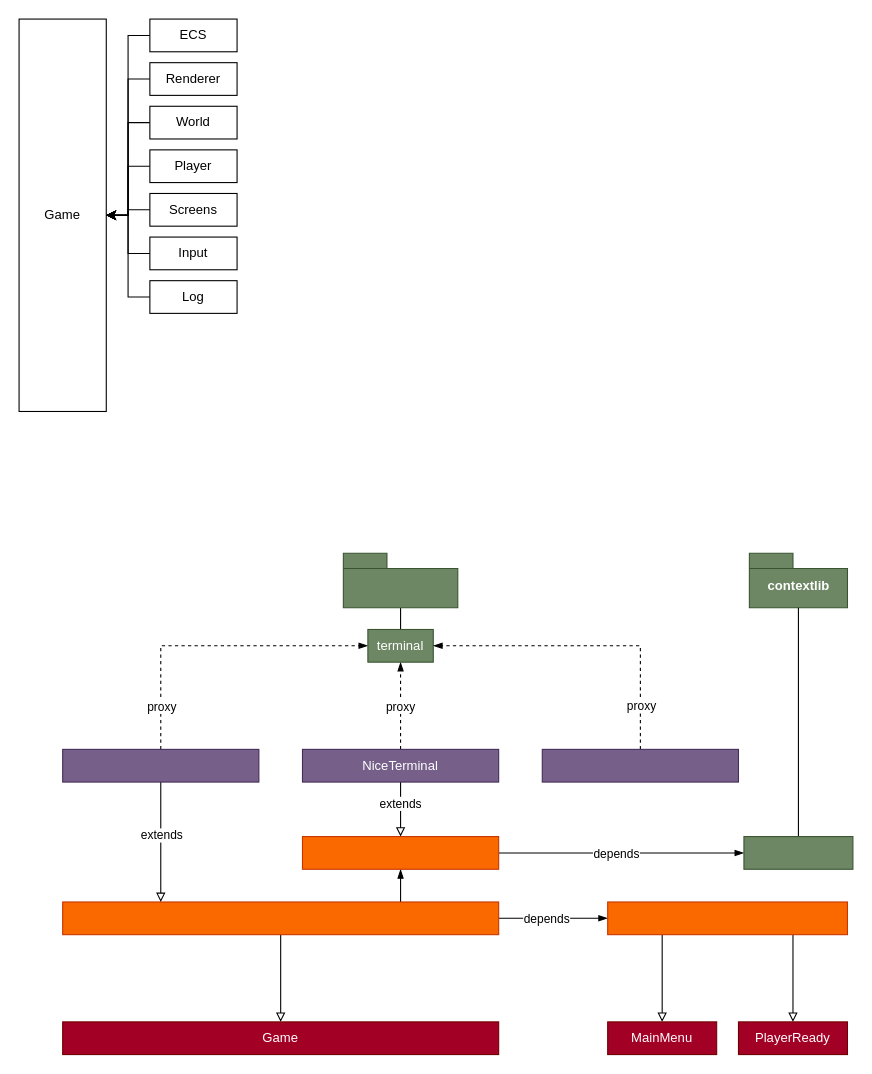
Image size: 872x1074. Some labels were removed from this diagram. Each missing label, with the centre of its shape:
"bearlibterminal" goes at (400,580).
"BearLibTerminalContext" goes at (400,852).
"BearLibTerminalEventLoop" goes at (160,765).
"contextmanager" goes at (798,852).
"DirectorLoop" goes at (280,918).
"Scene" goes at (727,918).
"TerminalState" goes at (639,765).
